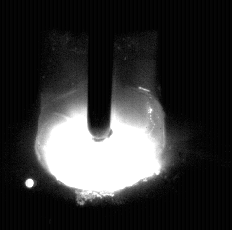arame: (88, 0, 112, 142)
poca: (33, 0, 166, 230)
